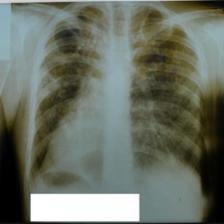tuberculosis: (27, 0, 204, 186)
